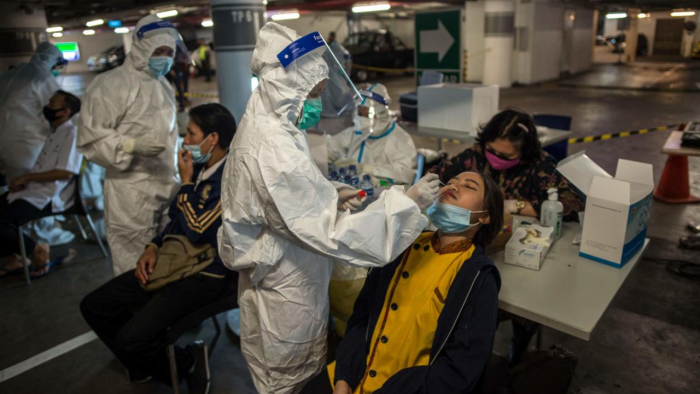Coverall: (222, 15, 382, 394), (87, 14, 179, 306)
Face_Shield: (274, 25, 372, 119), (128, 15, 204, 87)
Gloves: (407, 167, 441, 225), (122, 130, 168, 160), (337, 183, 369, 214)
mask_weared_incorrect: (434, 171, 483, 236), (183, 119, 215, 164)
with_mask: (298, 80, 325, 134), (482, 139, 521, 173), (148, 44, 179, 77), (43, 92, 67, 125), (355, 107, 375, 132)
